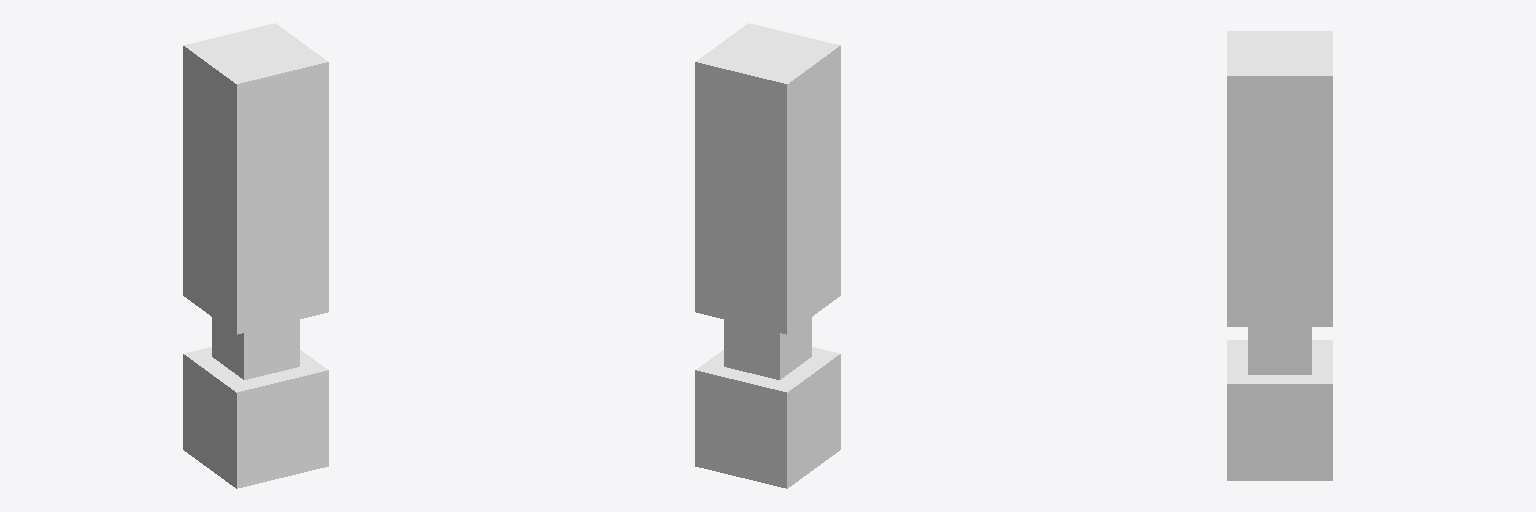
The model's file is Player0-3.obj.
3 views of the same model, side by side, from view 1: azimuth 30°, elevation 25°; view 2: azimuth 150°, elevation 25°; view 3: azimuth 270°, elevation 25° (orthographic).
Parts seen in each view (by area): view 1: object 1; view 2: object 1; view 3: object 1.
Boxes of the visible parts, <box> form: object 1: <box>183,23,328,488</box>; object 1: <box>695,23,840,488</box>; object 1: <box>1227,31,1332,480</box>.
Bounding box in the file's own units: 0.5 × 2.1 × 0.5.